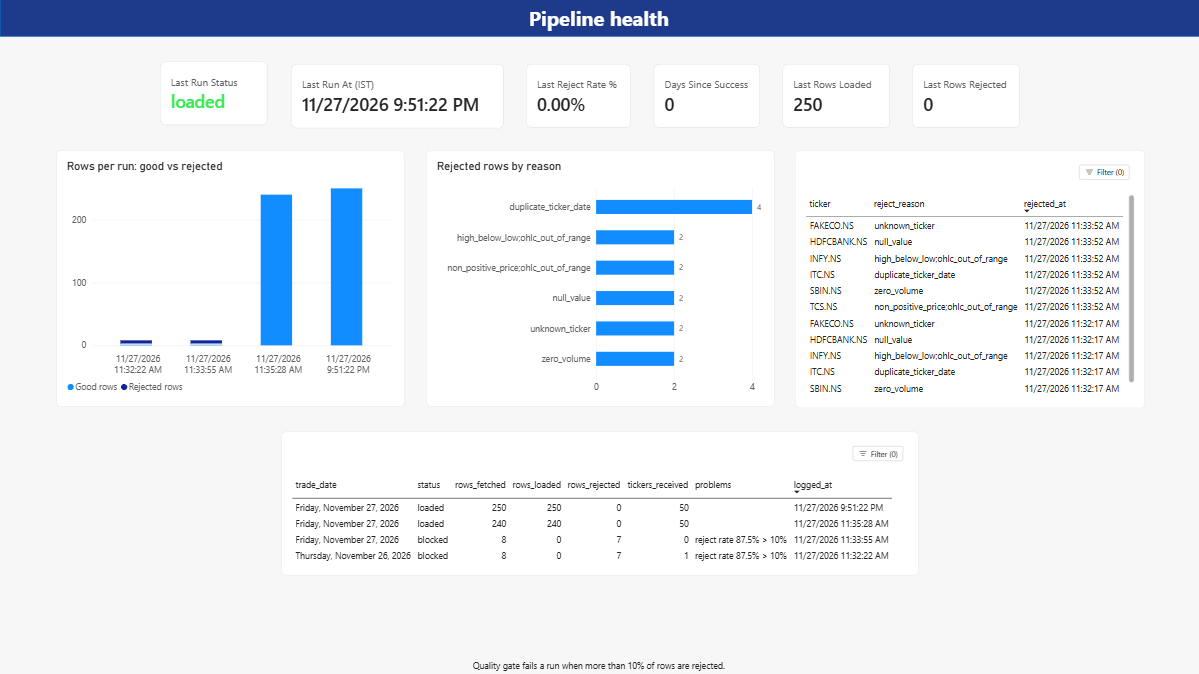

The dashboard page shown, as its layout file describes it:
{"tool":"powerbi","page":{"name":"Pipeline health","canvas":[1920,1080],"ordinal":2},"visuals":[{"type":"cardVisual","fields":{"Data":["_Measures.Last Rows Rejected"]},"box":[1459.3,103,172,102],"z":0},{"type":"cardVisual","fields":{"Data":["_Measures.Last Reject Rate %"]},"box":[842.7,104.7,167.5,102.5],"z":1000},{"type":"cardVisual","fields":{"Data":["_Measures.Days Since Success"]},"box":[1046,104.7,170,102.3],"z":2000},{"type":"cardVisual","fields":{"Data":["Max(pipeline_runs.logged_at_ist)"]},"box":[466,103,340.2,103.2],"z":3000},{"type":"cardVisual","fields":{"Data":["_Measures.Last Rows Loaded"]},"box":[1251,103,172,102],"z":4000},{"type":"columnChart","title":"Rows per run: good vs rejected","fields":{"Category":["pipeline_runs.logged_at_ist"],"Y":["Sum(pipeline_runs.rows_good)","Sum(pipeline_runs.rows_rejected)"]},"box":[90,242.5,557.5,410],"z":5000},{"type":"barChart","title":"Rejected rows by reason","fields":{"Category":["rejected_prices.reject_reason"],"Y":["_Measures.Rejected Rows"]},"box":[682.5,242.5,557.5,410],"z":6000},{"type":"tableEx","fields":{"Values":["pipeline_runs.trade_date","pipeline_runs.status","pipeline_runs.rows_fetched","pipeline_runs.rows_loaded","pipeline_runs.rows_rejected","pipeline_runs.tickers_received","pipeline_runs.problems","pipeline_runs.logged_at_ist"]},"box":[450,692,1020,230],"z":7000},{"type":"tableEx","fields":{"Values":["rejected_prices.ticker","rejected_prices.reject_reason","rejected_prices.rejected_at_ist"]},"box":[1272.5,242.5,560,412.5],"z":8000},{"type":"textbox","box":[752.5,1055,412.1,25],"z":9000},{"type":"cardVisual","fields":{"Data":["_Measures.Last Run Status"]},"box":[256,100.5,172.5,102.5],"z":10000},{"type":"shape","box":[0,0,1920,60],"z":11000},{"type":"textbox","box":[845,7.5,233.3,44.2],"z":12501}]}

Visuals, with their boxes in screenshot pixels (x1, y1, x2, y2), scaled from the page's 1920x1080 canvas onto the 1199x674 screenshot:
cardVisual - _Measures.Last Rows Rejected: detection(911, 64, 1019, 128)
cardVisual - _Measures.Last Reject Rate %: detection(526, 65, 631, 129)
cardVisual - _Measures.Days Since Success: detection(653, 65, 759, 129)
cardVisual - Max(pipeline_runs.logged_at_ist): detection(291, 64, 503, 129)
cardVisual - _Measures.Last Rows Loaded: detection(781, 64, 889, 128)
"Rows per run: good vs rejected" columnChart: detection(56, 151, 404, 407)
"Rejected rows by reason" barChart: detection(426, 151, 774, 407)
tableEx - pipeline_runs.trade_date x pipeline_runs.status: detection(281, 432, 918, 575)
tableEx - rejected_prices.ticker x rejected_prices.reject_reason: detection(795, 151, 1144, 409)
textbox: detection(470, 658, 727, 673)
cardVisual - _Measures.Last Run Status: detection(160, 63, 268, 127)
shape: detection(0, 0, 1198, 37)
textbox: detection(528, 5, 673, 32)
